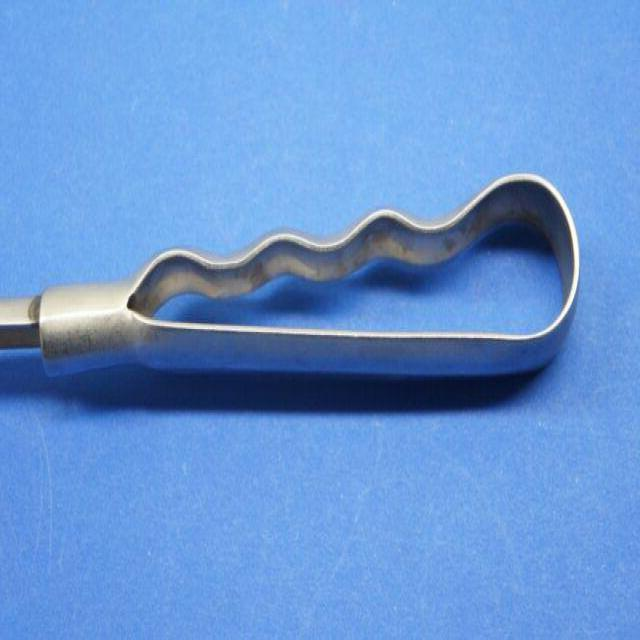Richardson: (0, 168, 581, 380)
